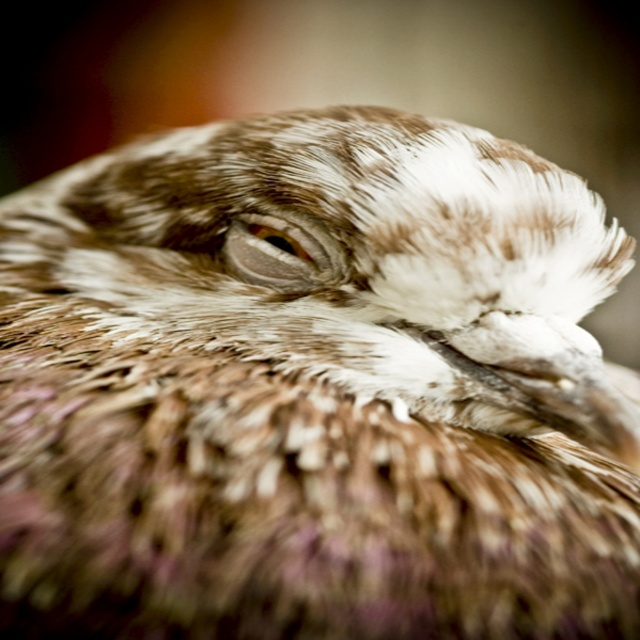Owl: (0, 99, 638, 639)
